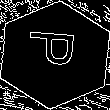P_E: (26, 34, 84, 76)
